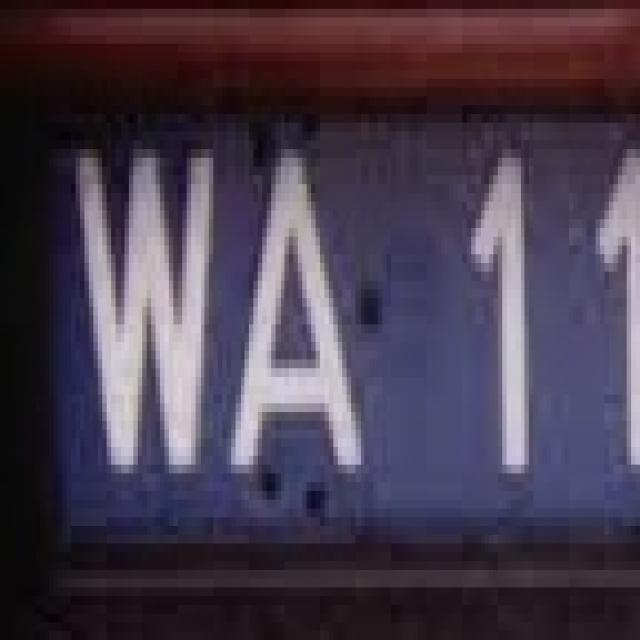licenseplate: (3, 58, 640, 564)
